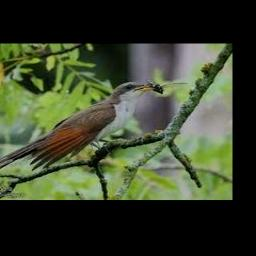Cuckoo: (0, 82, 154, 173)
